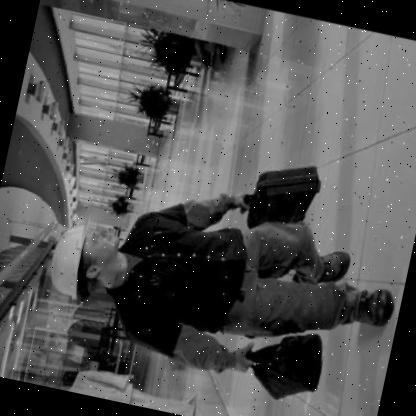bota: (286, 242, 350, 288), (341, 281, 397, 332)
capacete: (47, 210, 124, 305)
